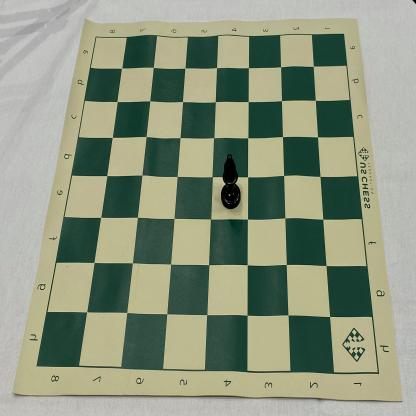black-bishop: (220, 153, 242, 210)
